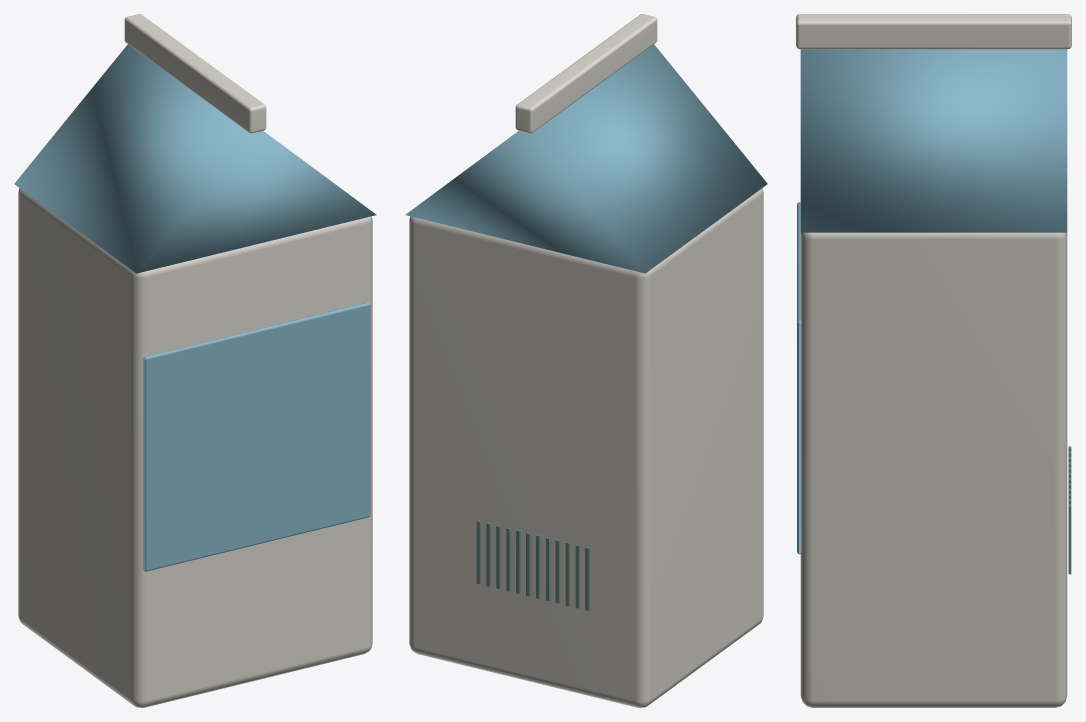
Rendered from milk.glb.
The picture shows the model from 3 angles, left to right: view 1: azimuth 30°, elevation 25°; view 2: azimuth 150°, elevation 25°; view 3: azimuth 270°, elevation 25°; orthographic projection. The views are drawn at different scales.
Parts seen in each view (by area): view 1: milk carton body, folded carton roof; view 2: milk carton body, folded carton roof, printed barcode; view 3: milk carton body, folded carton roof, printed barcode.
Boxes of the visible parts, <box> form: milk carton body: <box>18,14,372,707</box>; folded carton roof: <box>14,44,376,571</box>; milk carton body: <box>409,14,763,707</box>; folded carton roof: <box>405,44,767,273</box>; printed barcode: <box>476,520,589,610</box>; milk carton body: <box>796,14,1071,707</box>; folded carton roof: <box>797,49,1067,554</box>; printed barcode: <box>1068,446,1071,574</box>.
Size of the model in its own units: 0.34 by 0.7825 by 0.31.
